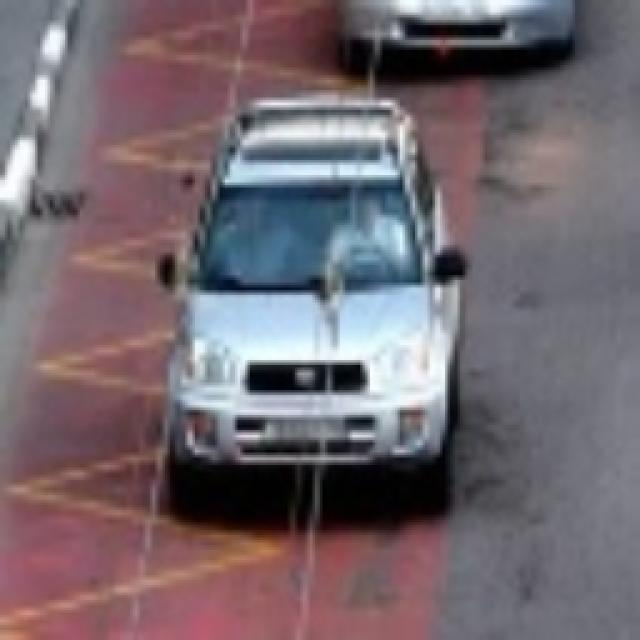windshield: (203, 186, 423, 292)
